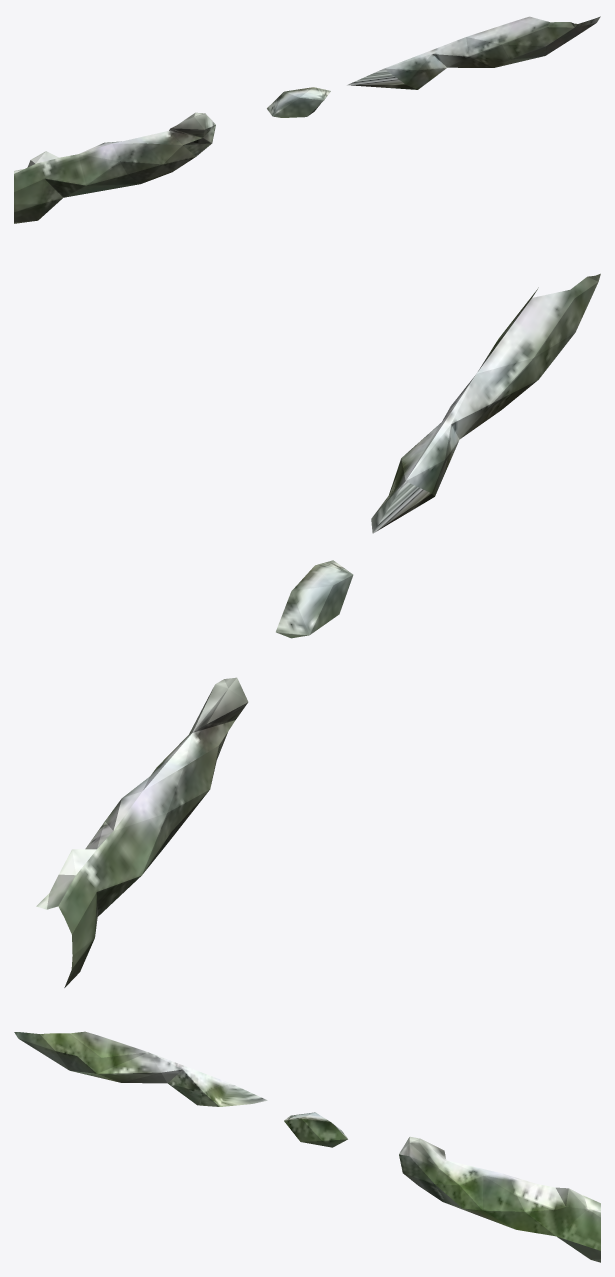
3 views of the same model, one above another, from view 1: azimuth 90°, elevation 25°; view 2: azimuth 150°, elevation 25°; view 3: azimuth 270°, elevation 25° (orthographic). The views are drawn at different scales.
Size of the model in its own units: 0.291 by 1.06 by 2.6.
1 material, 1 textured.
